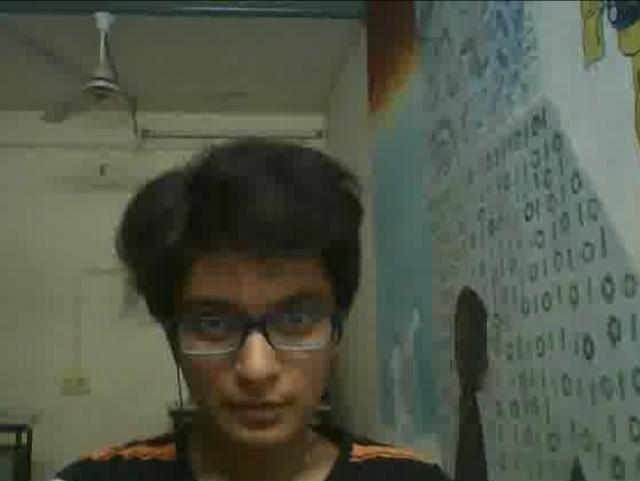bingung: (175, 234, 342, 446)
